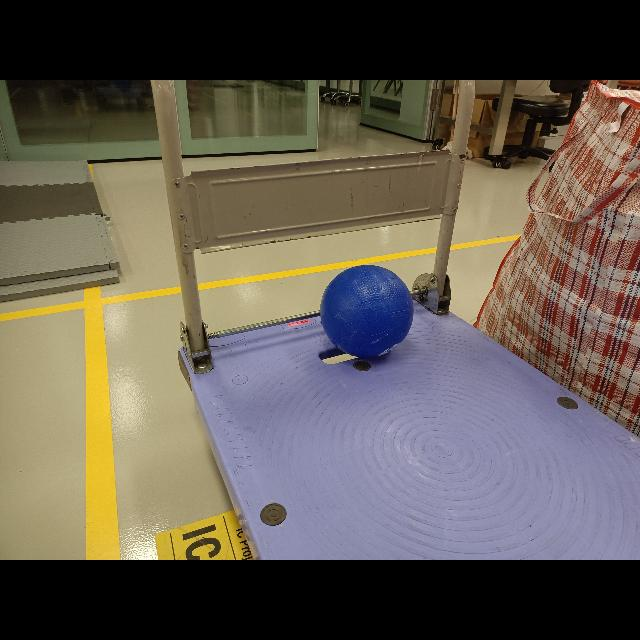B: (326, 262, 414, 354)
